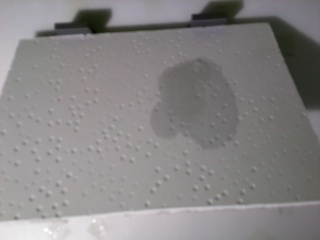Water_detected: (169, 77, 240, 139)
